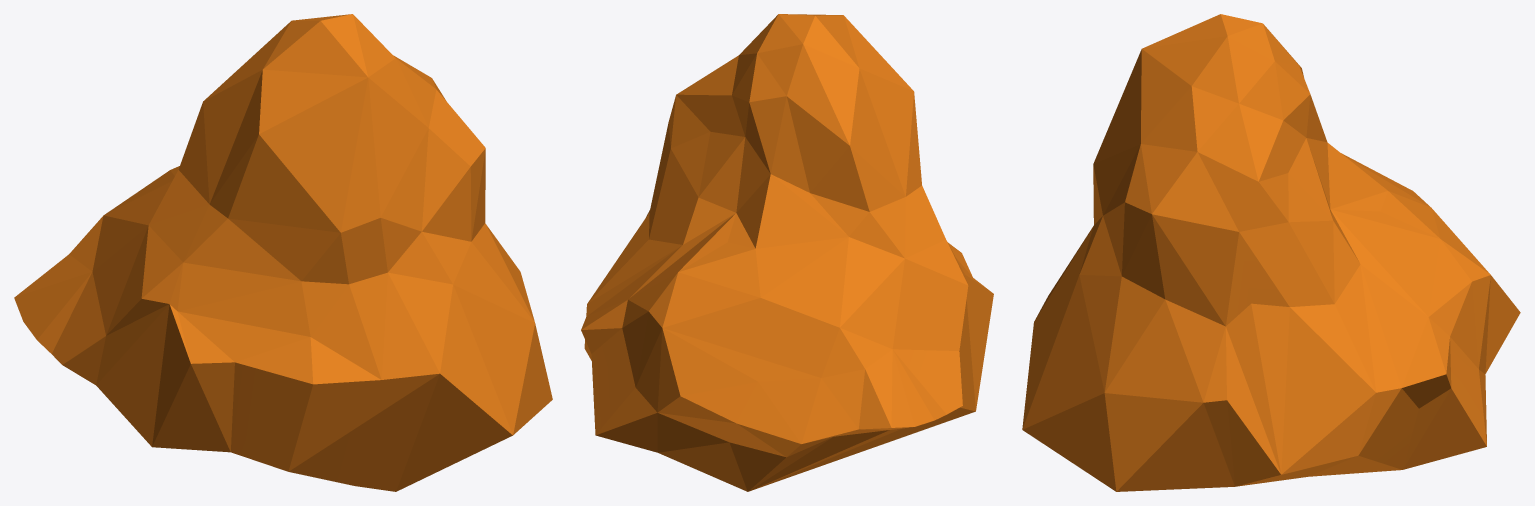
Rendered from DesertRock2.fbx.
3 views of the same model, side by side, from view 1: azimuth 30°, elevation 25°; view 2: azimuth 150°, elevation 25°; view 3: azimuth 270°, elevation 25° (orthographic). The views are drawn at different scales.
Visible parts, largest first — view 1: Icosphere; view 2: Icosphere; view 3: Icosphere.
Boxes of the visible parts, left/top/right/bottom form: Icosphere: left=14, top=14, right=552, bottom=491; Icosphere: left=581, top=14, right=993, bottom=491; Icosphere: left=1022, top=14, right=1520, bottom=491.
Size of the model in its own units: 223 by 222 by 229.
